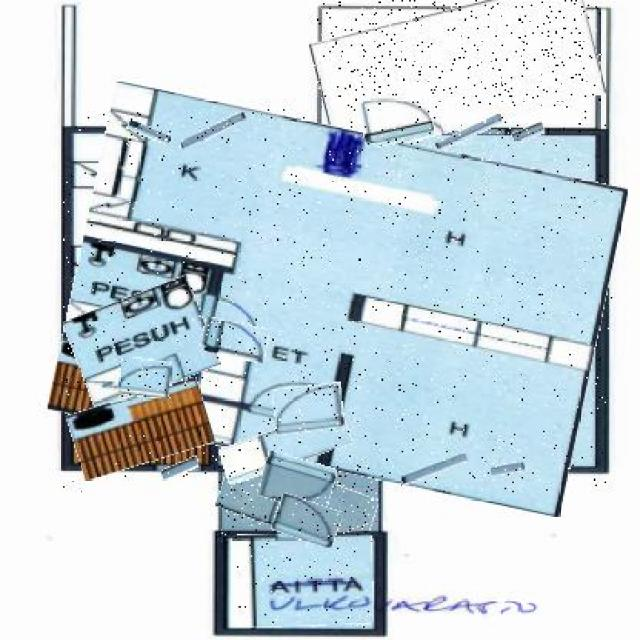door: (258, 456, 336, 510), (360, 90, 432, 144), (274, 385, 344, 432), (274, 497, 340, 545), (202, 320, 268, 360), (120, 360, 172, 397)
window: (180, 119, 248, 143), (434, 122, 504, 144), (400, 458, 469, 480), (126, 125, 171, 140), (160, 460, 198, 477), (512, 125, 545, 142), (490, 463, 524, 475)
zone: (63, 108, 614, 492), (314, 0, 601, 142), (69, 286, 214, 400), (234, 532, 372, 628), (218, 463, 377, 543), (71, 386, 212, 471), (220, 418, 352, 474)
